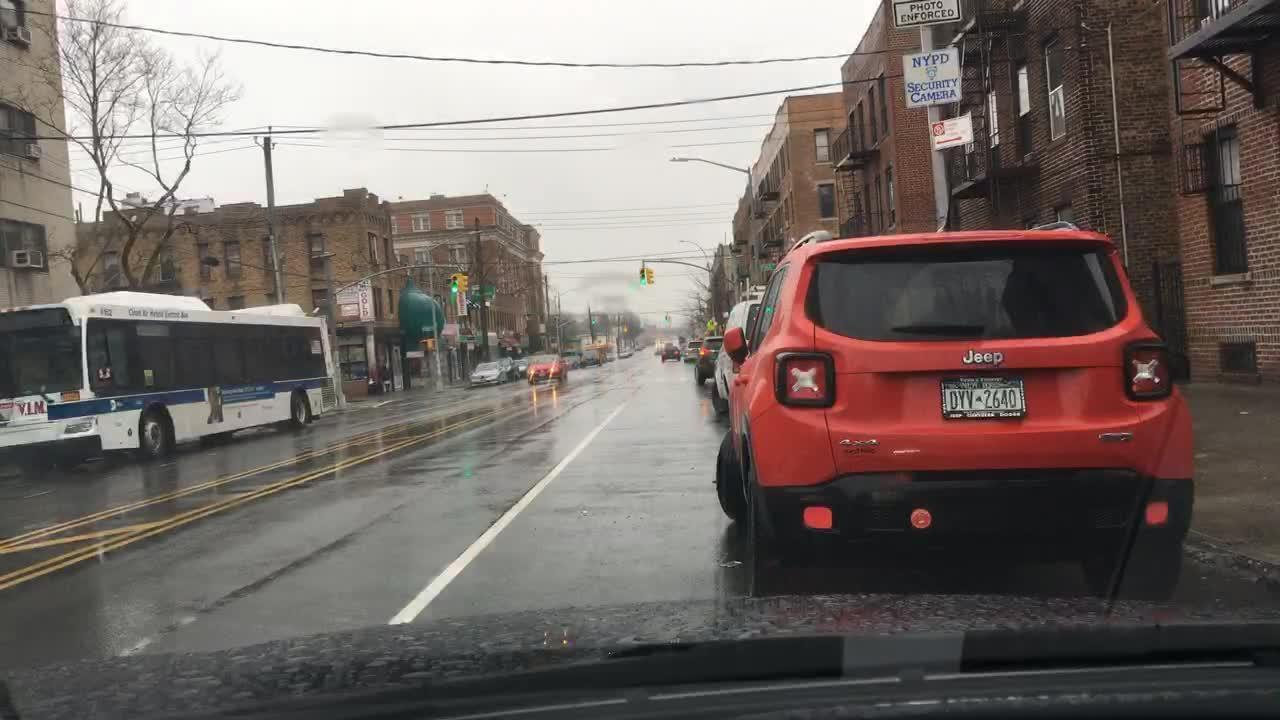jeep: (955, 344, 1014, 371)
